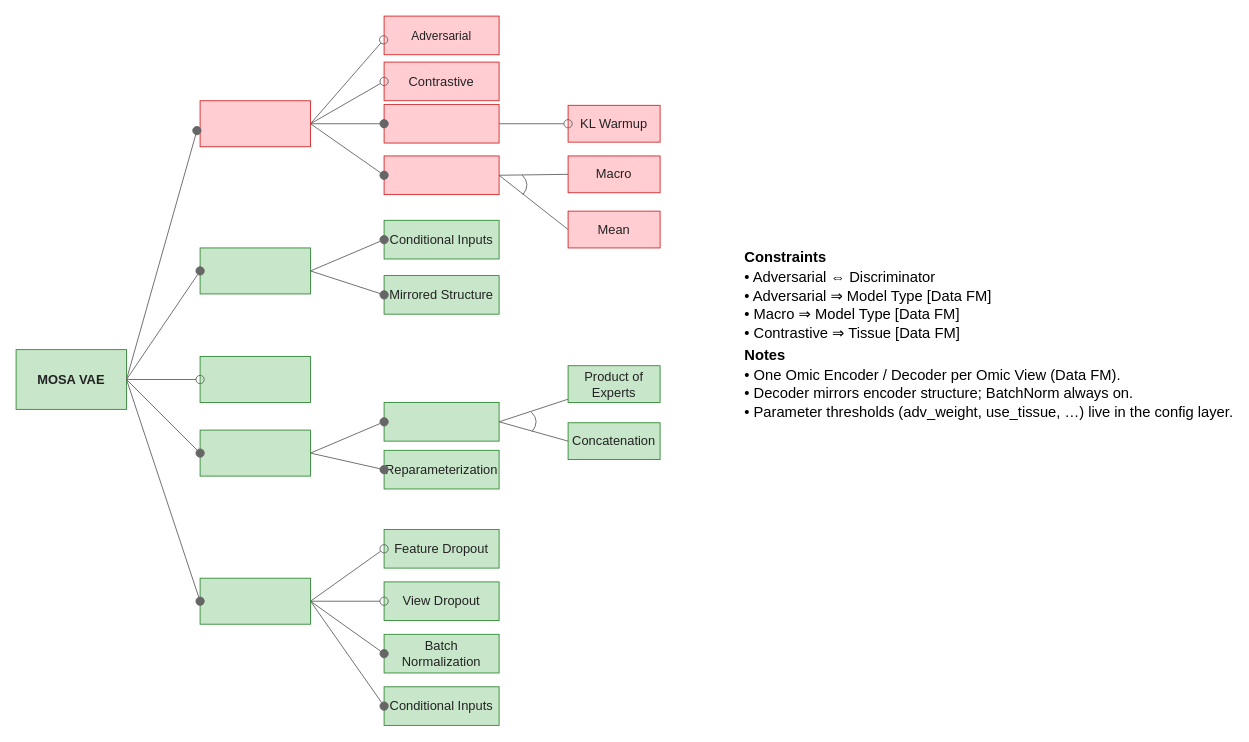
Image size: 1249x742. Some labels were removed from this diagram. The centre of each missing label's shape, as x and y in pixels:
"Discriminator" belongs at point (254, 379).
"Fusion Method" belongs at point (441, 421).
"Joint Latent Space" belongs at point (254, 452).
"KL Divergence" belongs at point (441, 123).
"Loss Function" belongs at point (254, 123).
"Omic Decoders" belongs at point (254, 270).
"Omic Encoders" belongs at point (254, 600).
"Reconstruction (MSE)" belongs at point (441, 175).
